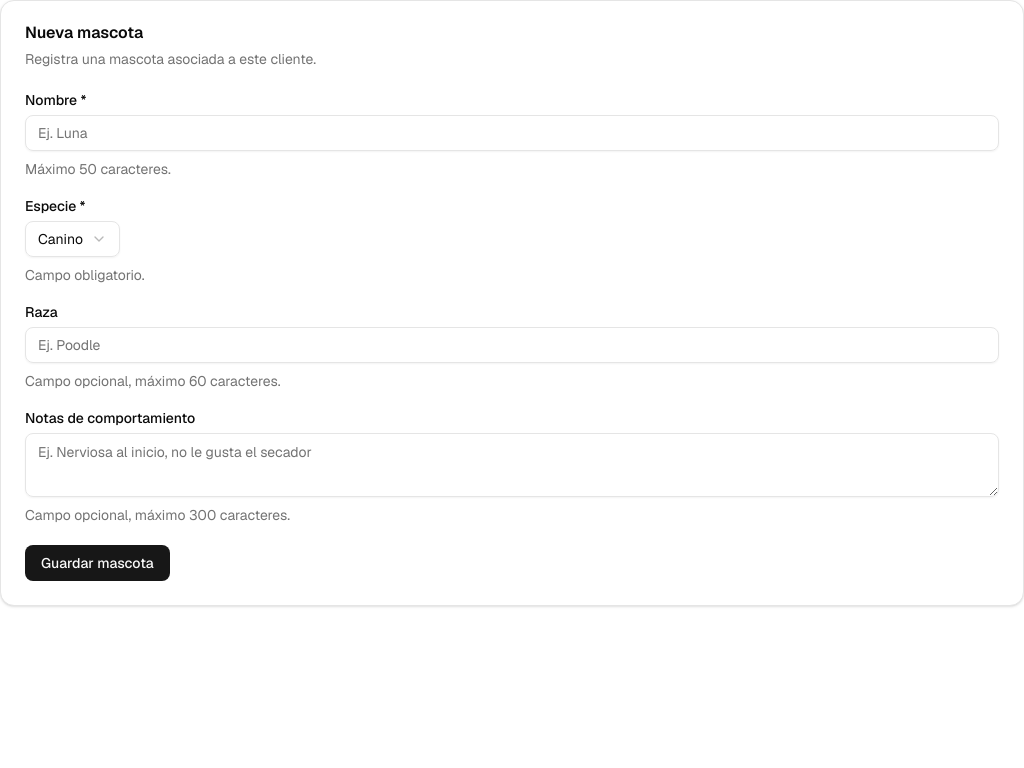
Test: PetForm › muestra toast de error y mensaje root si falla el guardado
Type "Luna" into the field labelled "Nombre *" at (512, 133), box [25, 115, 999, 151]
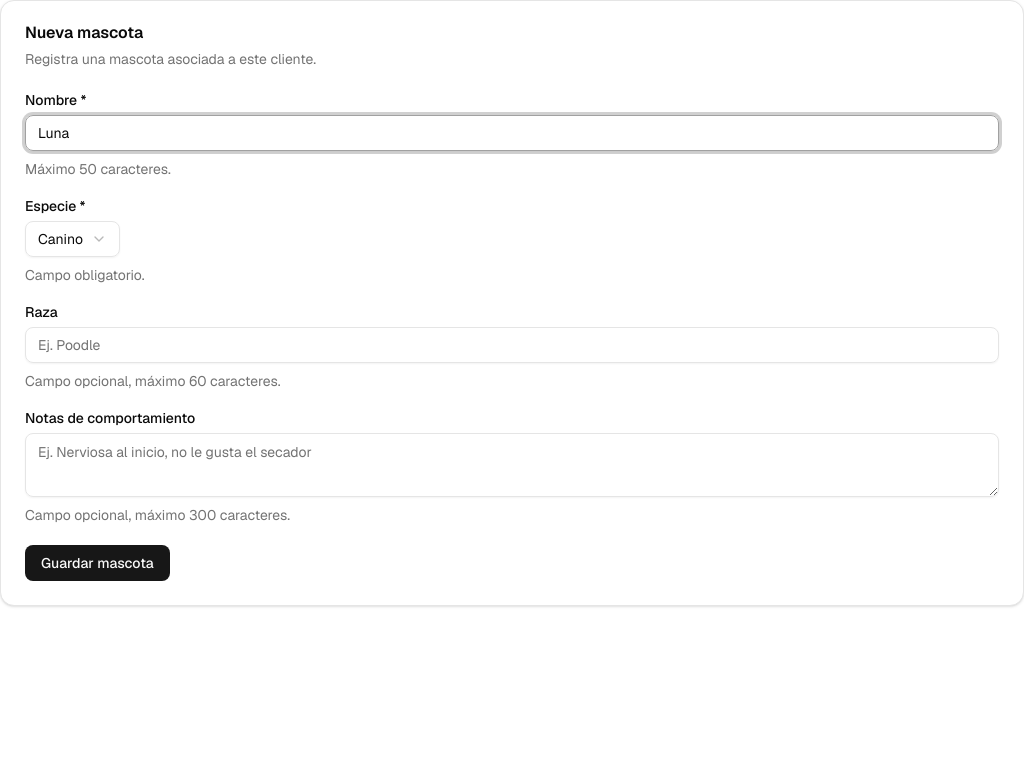
Click the button "Guardar mascota" at (97, 563), box [25, 545, 170, 581]
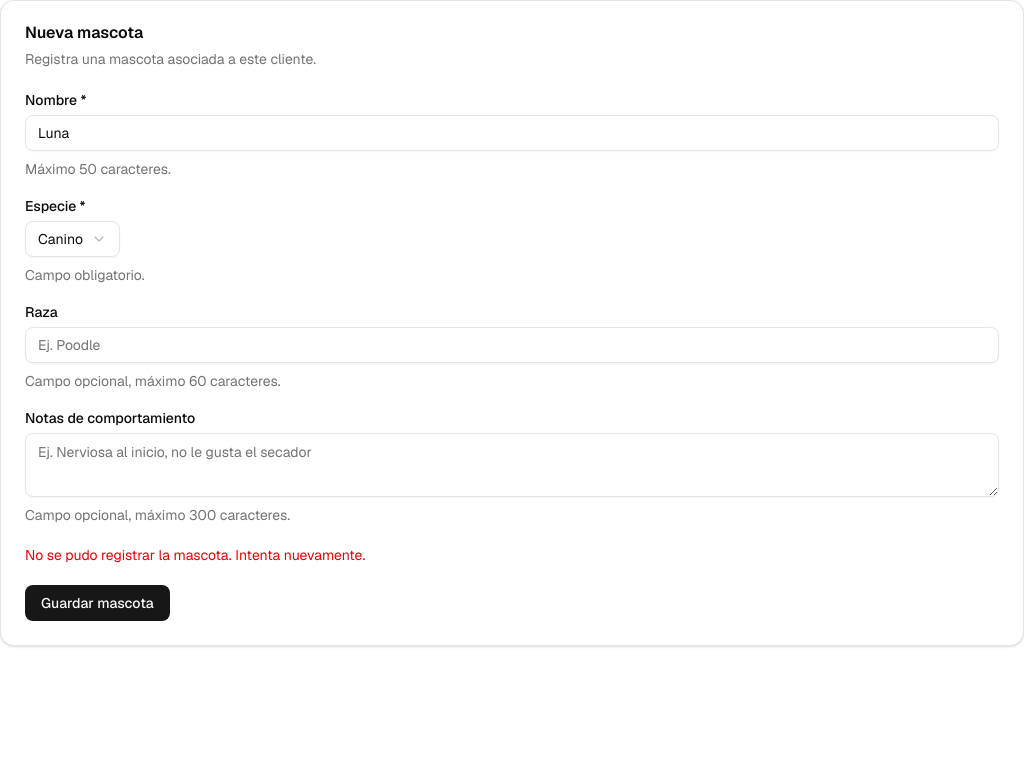
Now the text "No se pudo registrar la mascota. Intenta nuevamente." is shown, box [25, 546, 365, 564]
